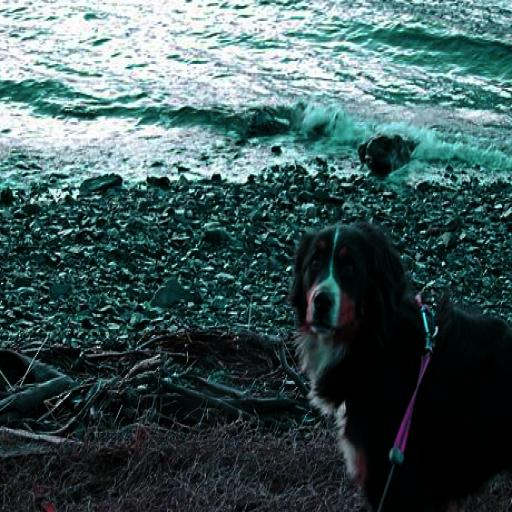dog_face: (292, 223, 381, 335)
